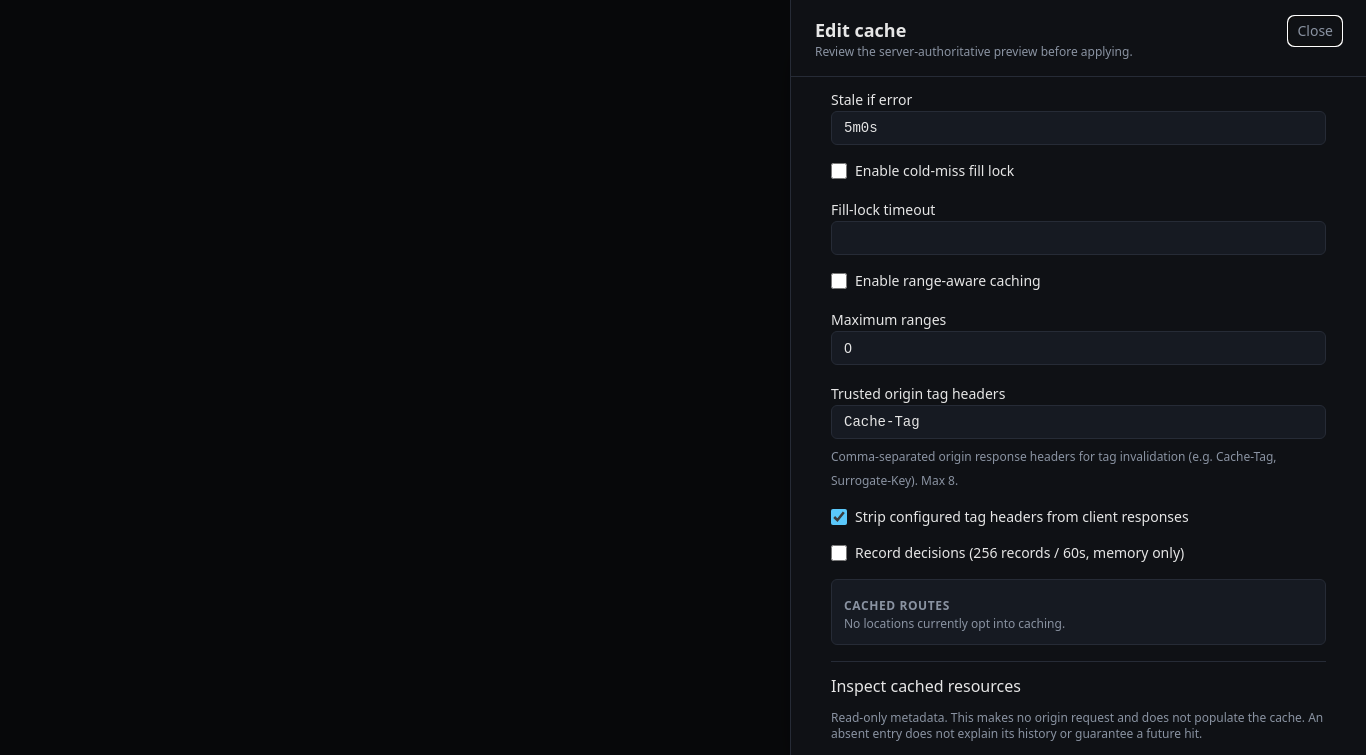
Test case: CacheInvalidationPanel full operator workflow (#621) › renders tag header controls in TrafficControlEditor cache drawer
(page scrolled)
Expected: the checkbox labelled "Strip configured tag headers from client responses" is checked, [831,509,847,525]
// Entering reserved ETag header shows validation error.
Replace the text in the field labelled "Trusted origin tag headers" with "ETag" at (1078, 422), box [831,405,1326,439]
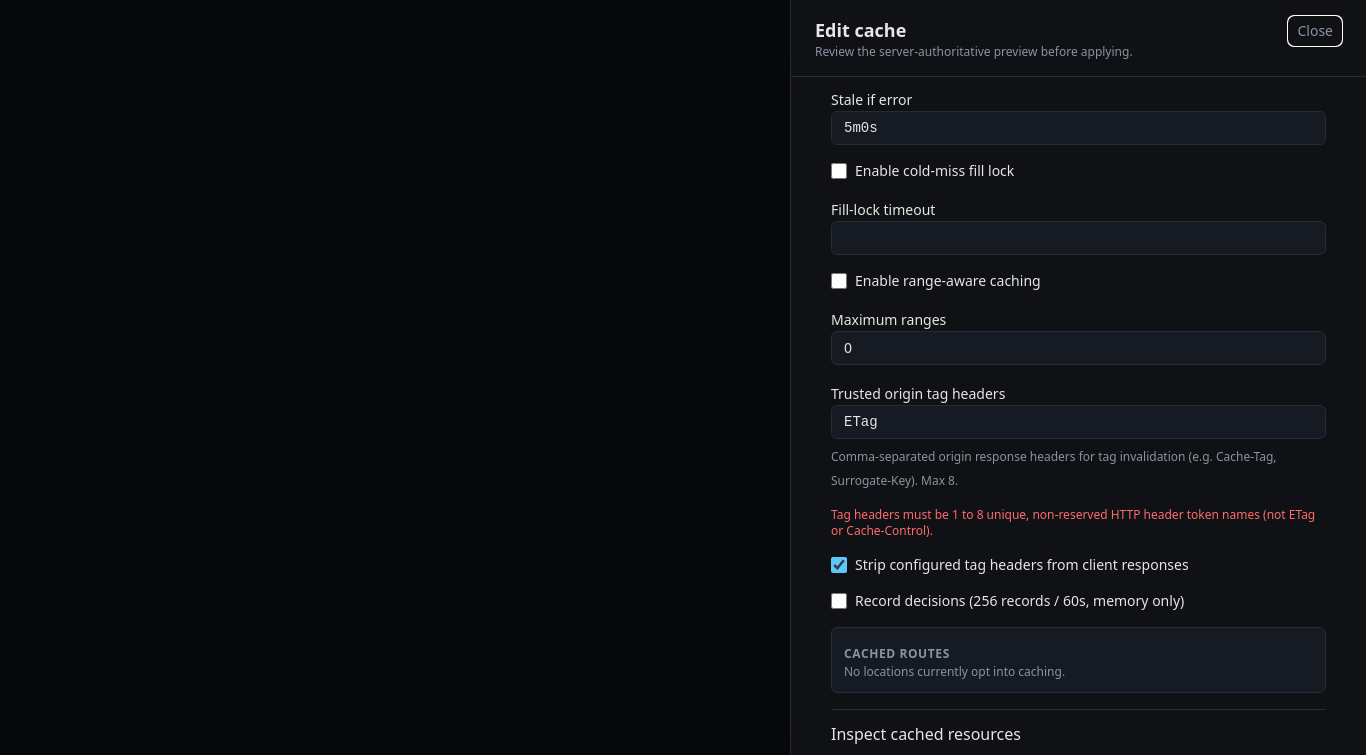
Now the text "Tag headers must be 1 to 8 unique, non-reserved HTTP header token names" is shown, box [831,506,1315,539]
Replace the text in the field labelled "Trusted origin tag headers" with "Cache-Tag, Surrogate-Key" at (1078, 422), box [831,405,1326,439]
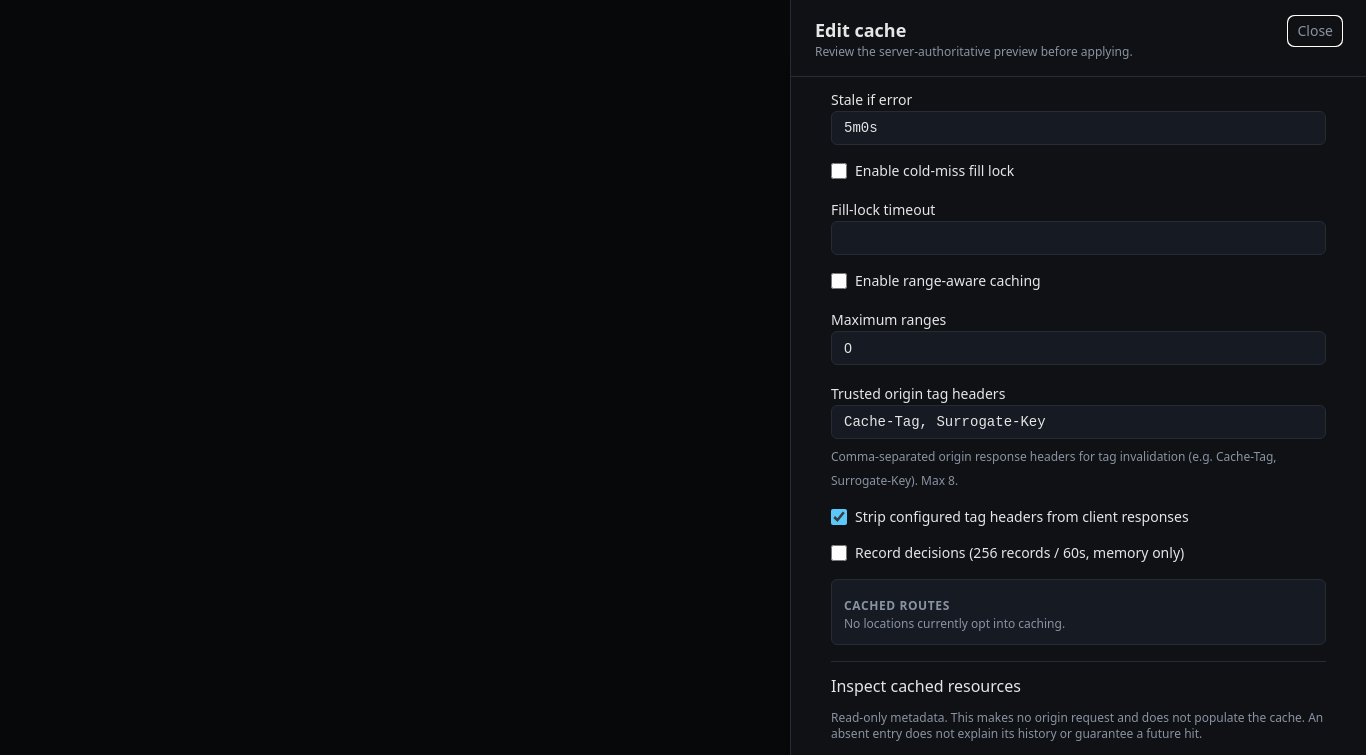
Now the text "Tag headers must be 1 to 8 unique, non-reserved HTTP header token names" is gone
